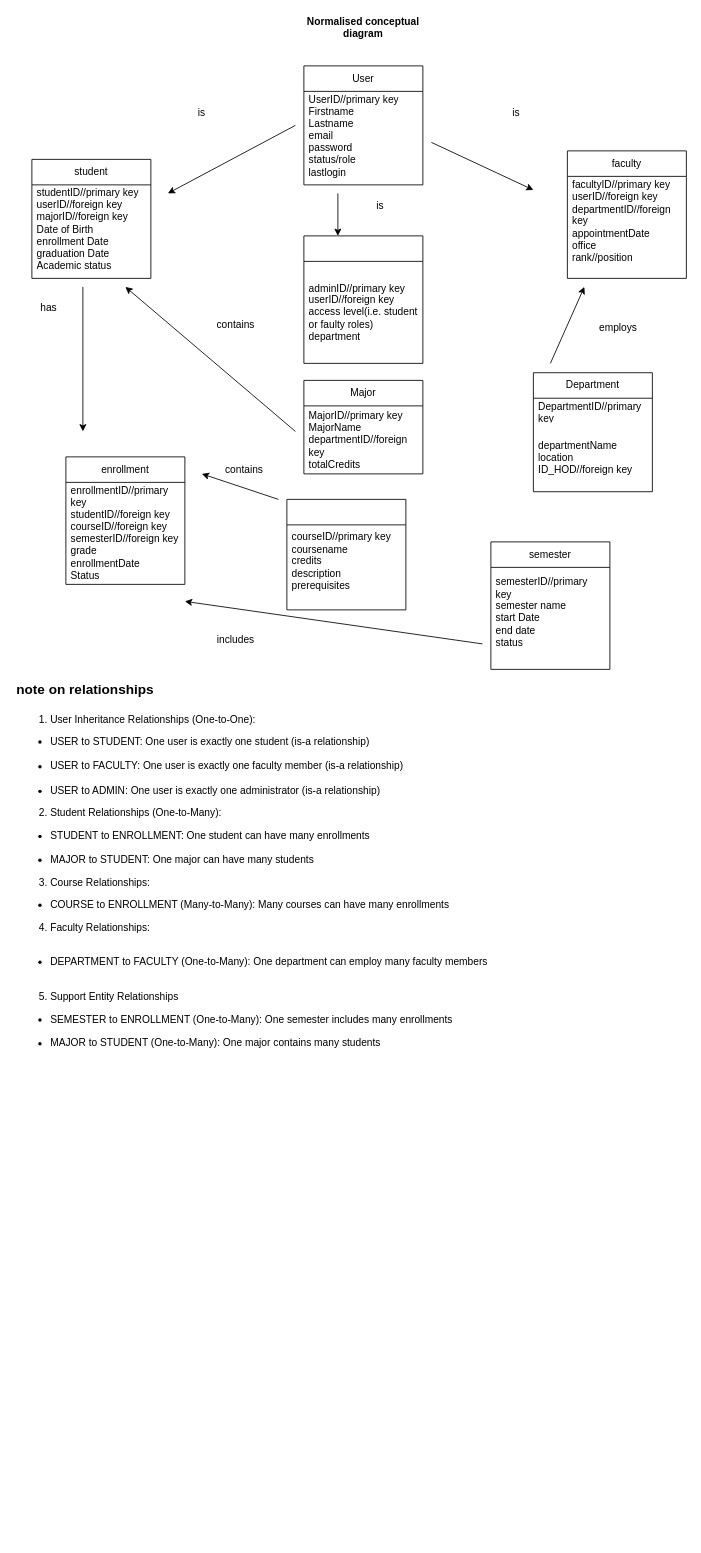
Image size: 701x1553. Some labels were removed from this diagram. The box of each missing label's shape, as (x1, y1, x2, y2) in pixels:
administrator: (303, 235, 423, 363)
courses: (286, 499, 406, 610)
